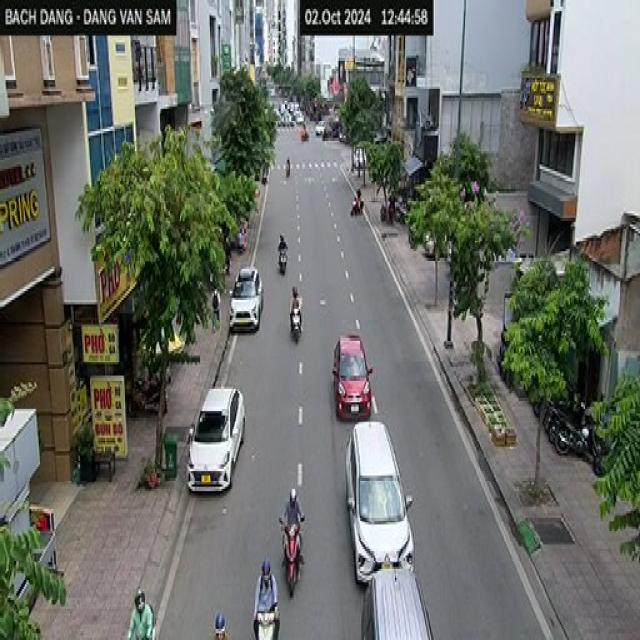car: (344, 418, 414, 584), (361, 555, 440, 640), (185, 384, 245, 494), (332, 333, 372, 420), (228, 265, 262, 331)
motorcycle: (277, 514, 305, 596), (283, 312, 311, 356), (243, 604, 280, 632), (272, 247, 287, 277), (350, 199, 364, 222), (276, 244, 286, 274)
person: (252, 558, 280, 638), (283, 487, 305, 562), (126, 586, 154, 638), (288, 285, 302, 331), (351, 178, 364, 214), (211, 285, 220, 331), (214, 611, 228, 638), (278, 233, 288, 264)
